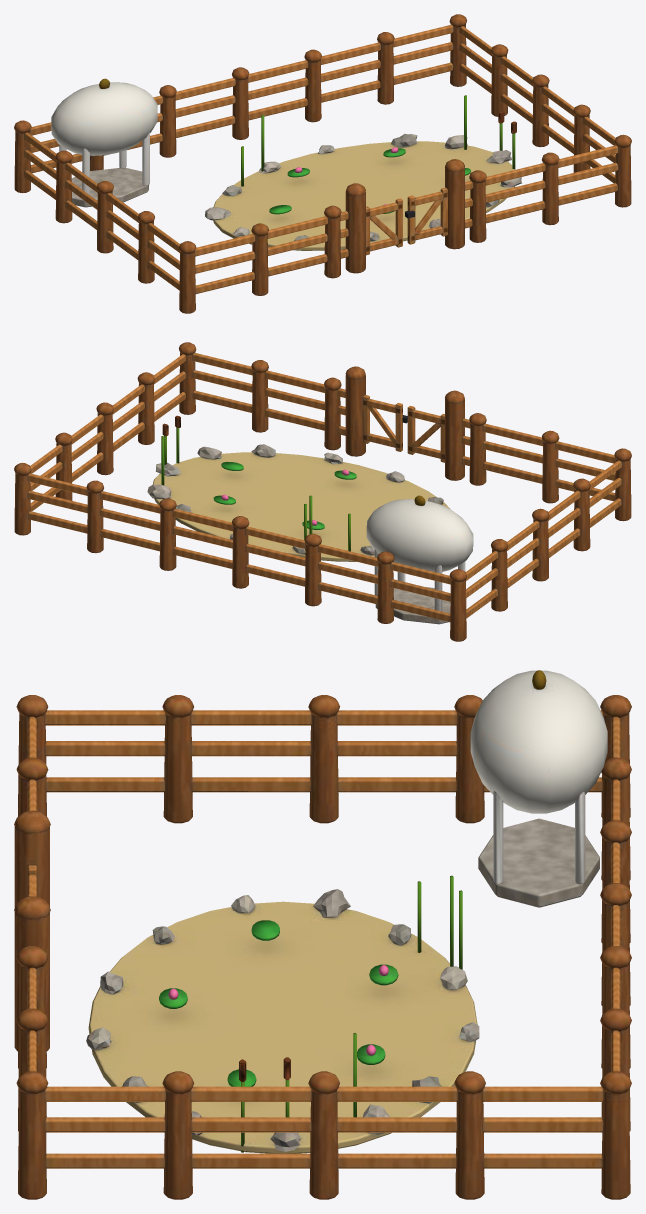
File: mandarin_pond.glb
The picture shows the model from 3 angles, top to bottom: view 1: azimuth 30°, elevation 25°; view 2: azimuth 150°, elevation 25°; view 3: azimuth 270°, elevation 25°; orthographic projection. The views are drawn at different scales.
Parts seen in each view (by area): view 1: mandarin_pond, gate1, gate0; view 2: mandarin_pond, gate1, gate0; view 3: mandarin_pond.
Part boxes in pixels (box(x1,y1,x2,y2)): mandarin_pond: box(14, 14, 631, 313); gate1: box(405, 187, 447, 244); gate0: box(366, 198, 402, 255); mandarin_pond: box(14, 342, 631, 641); gate1: box(363, 394, 407, 451); gate0: box(407, 405, 444, 462); mandarin_pond: box(14, 670, 631, 1199).
Size of the model in its own units: 3 by 0.715 by 2.01.
1 material, 1 textured.
